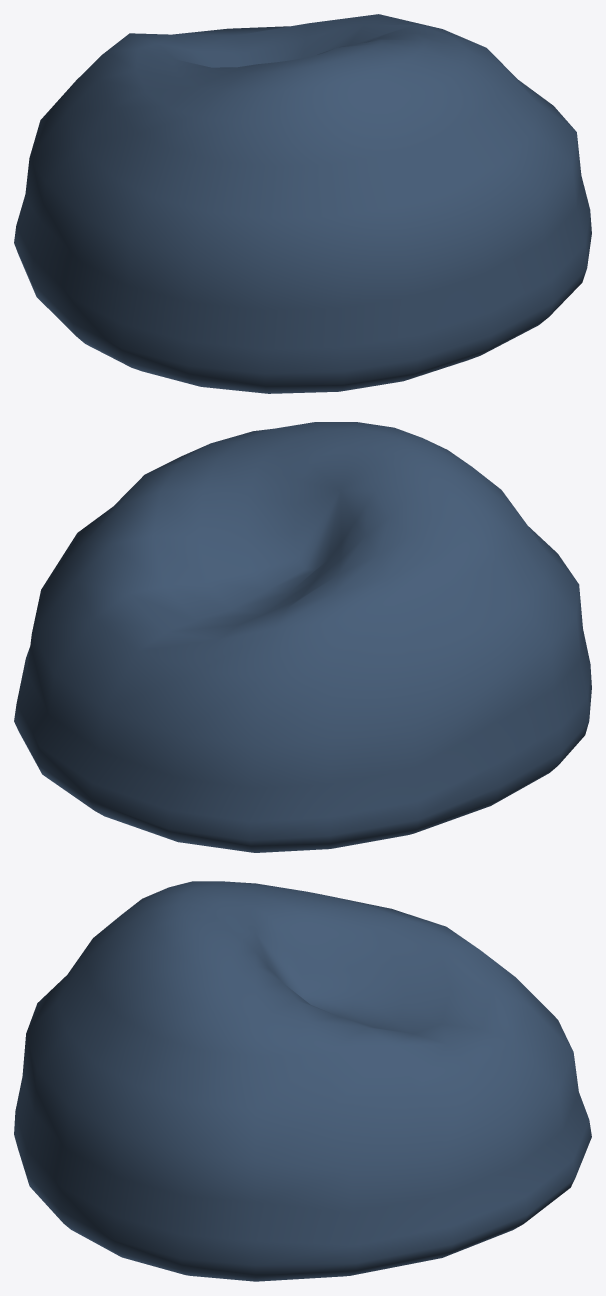
File: beanbag.fbx
3 views of the same model, one above another, from view 1: azimuth 30°, elevation 25°; view 2: azimuth 150°, elevation 25°; view 3: azimuth 270°, elevation 25° (orthographic). The views are drawn at different scales.
Visible parts, largest first — view 1: pSphere1; view 2: pSphere1; view 3: pSphere1.
Part boxes in pixels (<box>): pSphere1: <box>14,14,591,393</box>; pSphere1: <box>14,422,591,852</box>; pSphere1: <box>14,881,591,1281</box>.
Bounding box in the file's own units: 277 × 161 × 287.
